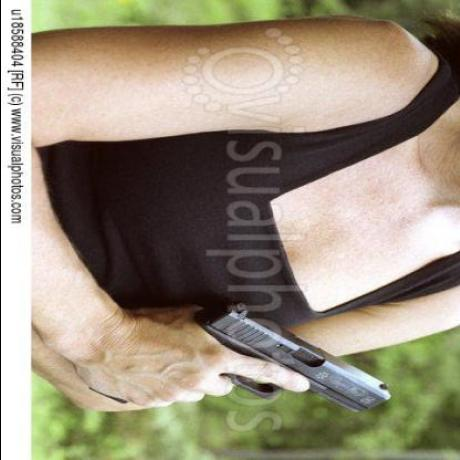1: (31, 15, 460, 414)
weapon: (174, 295, 396, 431)
